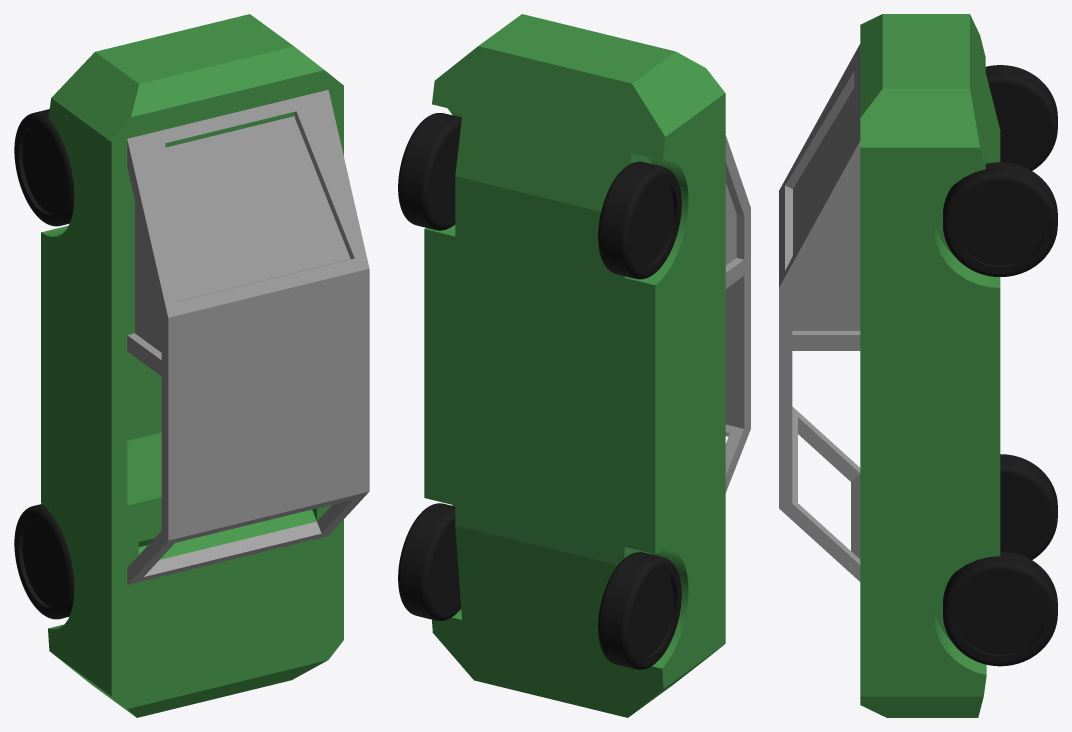
Rendered from Green_Car.fbx.
The picture shows the model from 3 angles, left to right: view 1: azimuth 30°, elevation 25°; view 2: azimuth 150°, elevation 25°; view 3: azimuth 270°, elevation 25°; orthographic projection.
Parts seen in each view (by area): view 1: Body1, Body8, Body5, Body4; view 2: Body1, Body5, Body4, Body8, Body2, Body3; view 3: Body1, Body8, Body3, Body2, Body5, Body4.
Part boxes in pixels (left/top/right/bottom): Body1: left=41, top=14, right=343, bottom=717; Body8: left=127, top=89, right=369, bottom=584; Body5: left=14, top=109, right=74, bottom=226; Body4: left=14, top=504, right=74, bottom=619; Body1: left=424, top=14, right=725, bottom=717; Body5: left=598, top=161, right=681, bottom=279; Body4: left=598, top=552, right=681, bottom=669; Body8: left=725, top=135, right=750, bottom=492; Body2: left=398, top=503, right=461, bottom=620; Body3: left=398, top=113, right=461, bottom=230; Body1: left=860, top=14, right=1000, bottom=717; Body8: left=779, top=44, right=860, bottom=581; Body3: left=943, top=162, right=1057, bottom=276; Body2: left=943, top=551, right=1057, bottom=666; Body5: left=985, top=65, right=1057, bottom=170; Body4: left=1000, top=454, right=1057, bottom=559.
Size of the model in its own units: 60 by 157 by 63.
